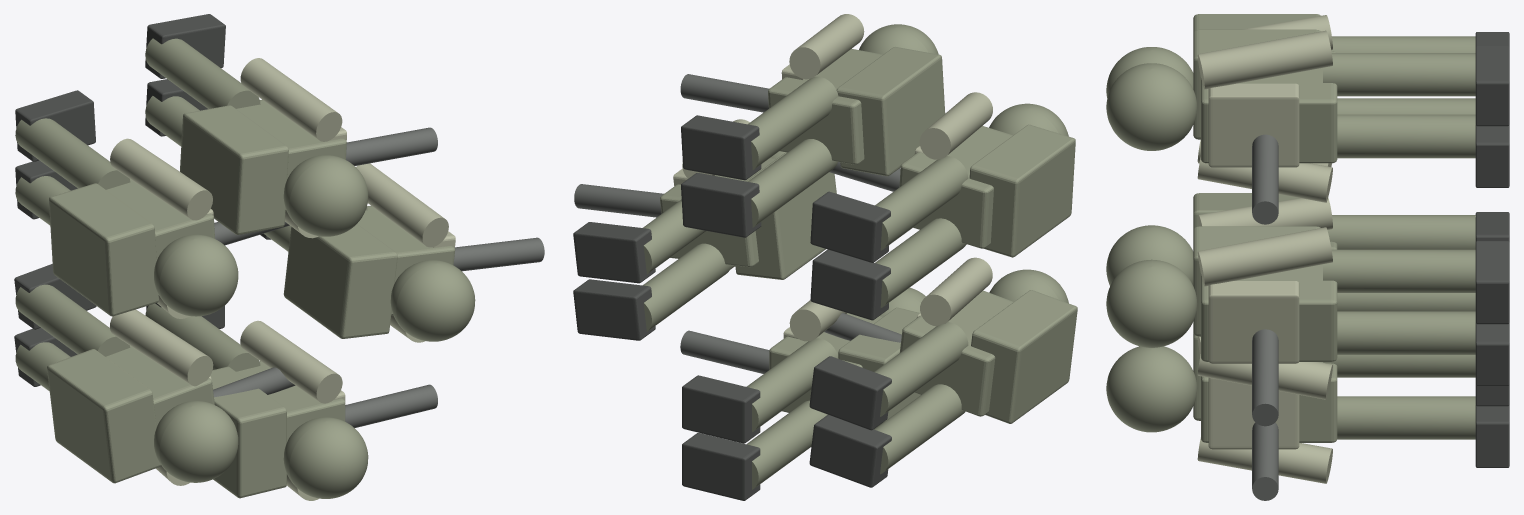
The model's file is v-u01-vanguard-line-infantry-lod1.glb.
3 views of the same model, side by side, from view 1: azimuth 30°, elevation 25°; view 2: azimuth 150°, elevation 25°; view 3: azimuth 270°, elevation 25° (orthographic). The views are drawn at different scales.
Parts seen in each view (by area): view 1: soldier_3_backpack, soldier_4_backpack, soldier_1_backpack, soldier_0_backpack, soldier_2_backpack, soldier_3_helmet, soldier_4_helmet, soldier_2_helmet, soldier_1_helmet, soldier_0_helmet, soldier_1_leg_1, soldier_3_leg_1 (+26 smaller); view 2: soldier_3_backpack, soldier_4_backpack, soldier_1_backpack, soldier_4_torso, soldier_0_backpack, soldier_3_torso, soldier_1_torso, soldier_4_boot_1, soldier_3_boot_1, soldier_3_boot_-1, soldier_2_boot_1, soldier_2_boot_-1 (+31 smaller); view 3: soldier_1_chest, soldier_0_chest, soldier_0_leg_1, soldier_1_leg_1, soldier_0_helmet, soldier_1_helmet, soldier_2_helmet, soldier_1_leg_-1, soldier_0_leg_-1, soldier_2_leg_-1, soldier_4_leg_1, soldier_1_arm_1 (+32 smaller).
Part boxes in pixels (x1,y1,x2,y2): soldier_3_backpack: [49, 183, 158, 316]; soldier_4_backpack: [47, 349, 160, 483]; soldier_1_backpack: [180, 105, 288, 234]; soldier_0_backpack: [283, 224, 397, 338]; soldier_2_backpack: [210, 366, 286, 498]; soldier_3_helmet: [154, 234, 238, 316]; soldier_4_helmet: [154, 401, 238, 482]; soldier_2_helmet: [283, 417, 368, 498]; soldier_1_helmet: [283, 155, 368, 236]; soldier_0_helmet: [390, 260, 475, 341]; soldier_1_leg_1: [145, 38, 260, 108]; soldier_3_leg_1: [15, 118, 130, 189]; soldier_3_backpack: [969, 124, 1075, 257]; soldier_4_backpack: [971, 290, 1077, 423]; soldier_1_backpack: [836, 46, 945, 176]; soldier_4_torso: [899, 290, 1013, 416]; soldier_0_backpack: [735, 152, 836, 279]; soldier_3_torso: [899, 126, 1012, 248]; soldier_1_torso: [768, 48, 882, 164]; soldier_4_boot_1: [809, 356, 891, 430]; soldier_3_boot_1: [810, 191, 890, 262]; soldier_3_boot_-1: [810, 249, 890, 320]; soldier_2_boot_1: [682, 375, 760, 443]; soldier_2_boot_-1: [682, 433, 760, 500]; soldier_1_chest: [1208, 83, 1299, 167]; soldier_0_chest: [1208, 281, 1299, 363]; soldier_0_leg_1: [1323, 249, 1475, 292]; soldier_1_leg_1: [1323, 53, 1475, 96]; soldier_0_helmet: [1106, 259, 1197, 347]; soldier_1_helmet: [1106, 63, 1197, 150]; soldier_2_helmet: [1106, 346, 1197, 432]; soldier_1_leg_-1: [1337, 114, 1475, 158]; soldier_0_leg_-1: [1337, 311, 1475, 354]; soldier_2_leg_-1: [1337, 396, 1475, 439]; soldier_4_leg_1: [1327, 215, 1475, 249]; soldier_1_arm_1: [1197, 30, 1332, 89].
Size of what is drawn, in the model's own units: 3.06 by 2.57 by 2.13.
